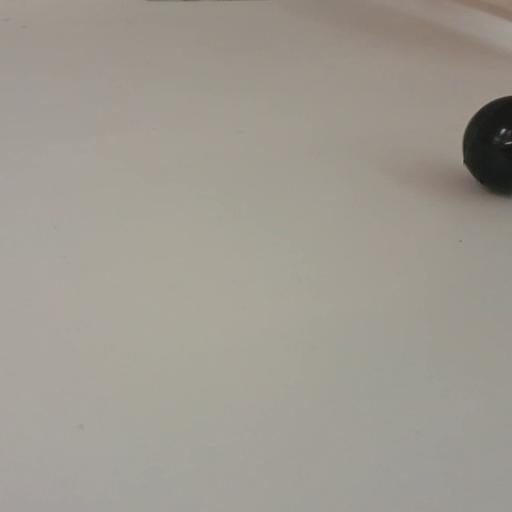dead: (461, 93, 512, 193)
